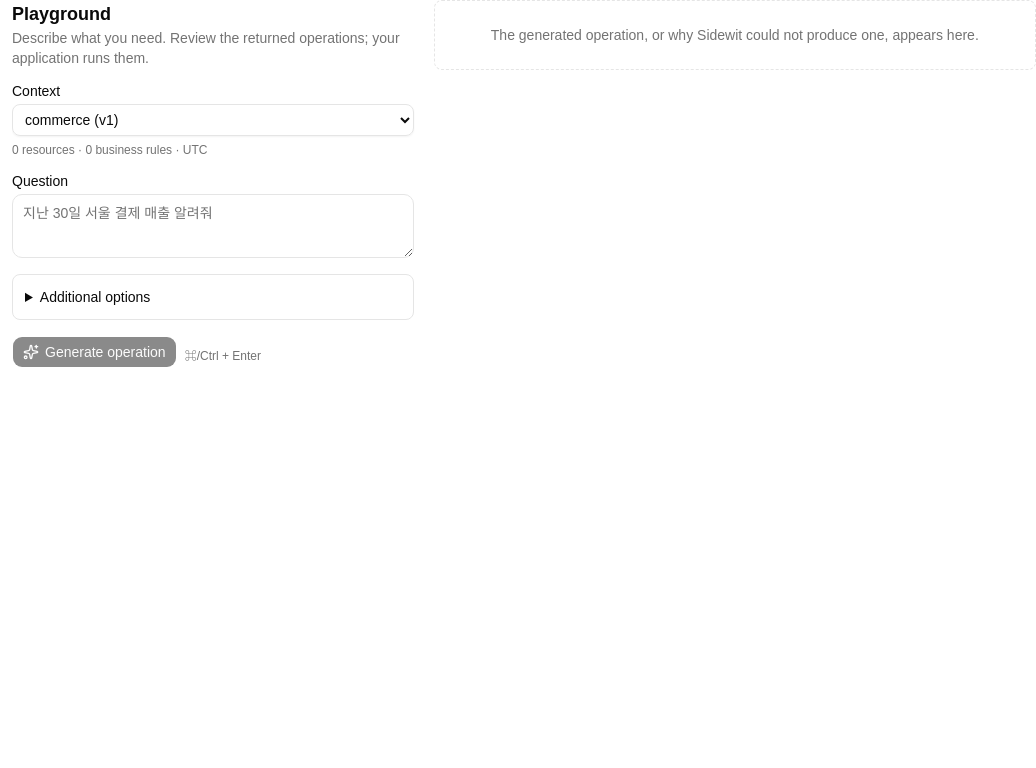
Test: Clarification preserves the original request and accumulates answers across rounds
In the text box labelled "Question": coordinates (213, 226) [12, 194, 414, 258], type "This month reviews"
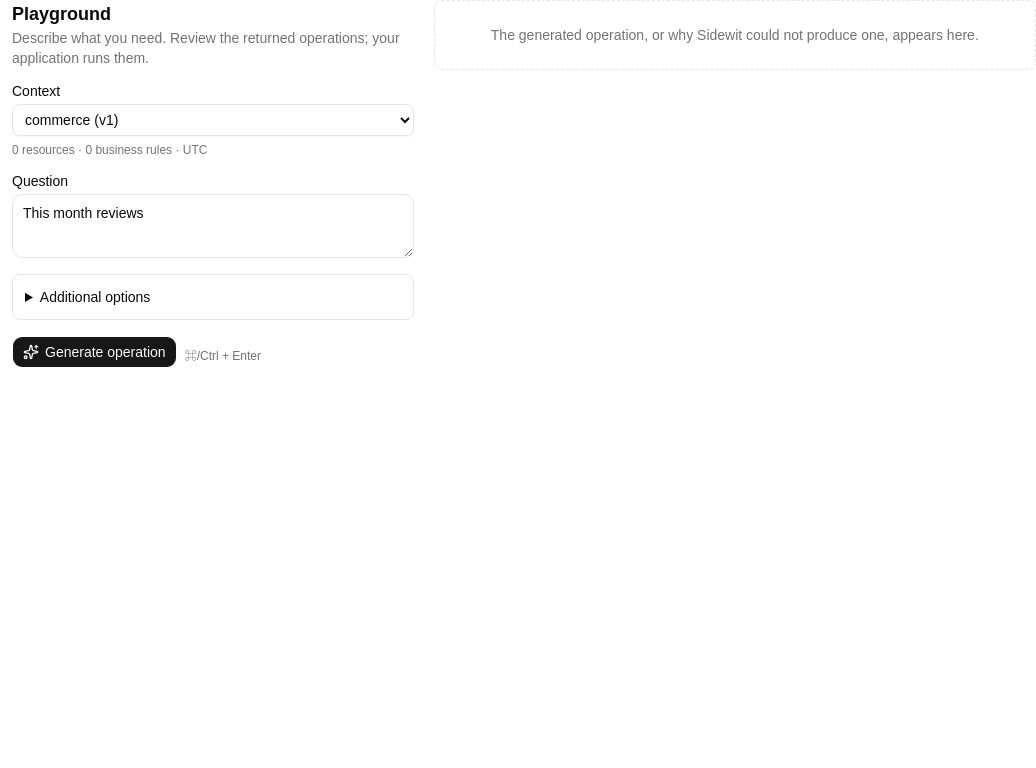
Click the button "Generate operation": coordinates (94, 352) [12, 336, 177, 368]
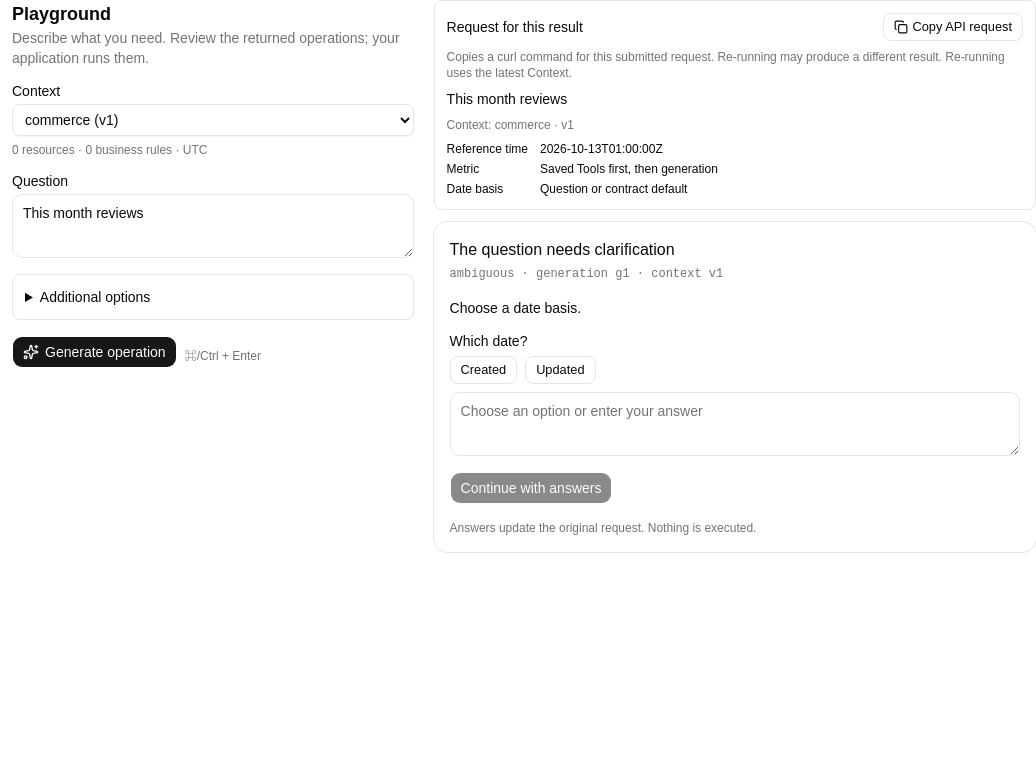
Check: the text "Which date?" is shown, box [450, 333, 527, 349]
Click the button "Created": coordinates (483, 370) [450, 356, 517, 384]
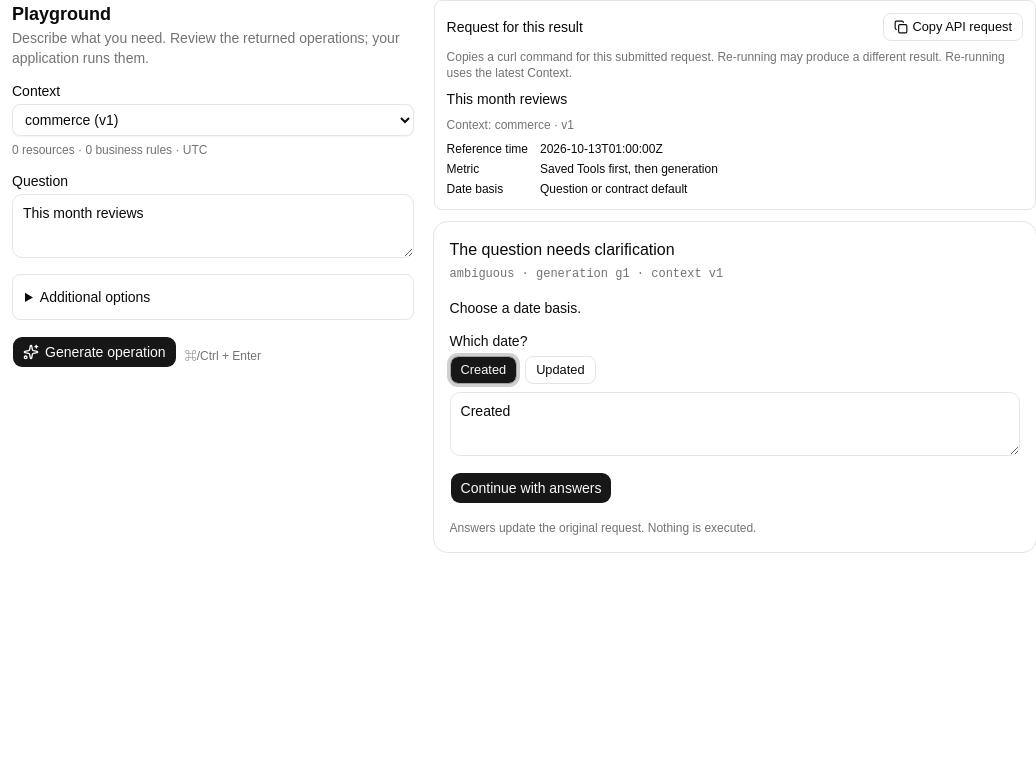
Click the button "Continue with answers": coordinates (531, 488) [450, 472, 612, 504]
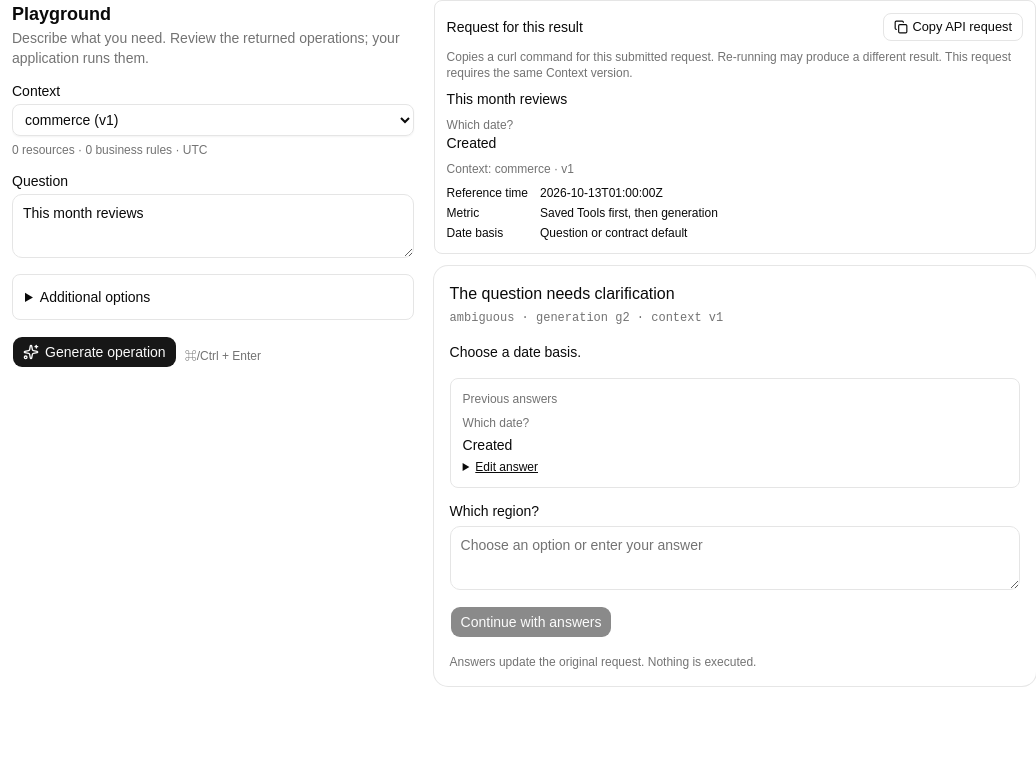
Check: the text "Which region?" is shown, box [450, 503, 539, 519]
In the text box labelled "Which region?": coordinates (735, 558) [450, 526, 1020, 590], type "Seoul"
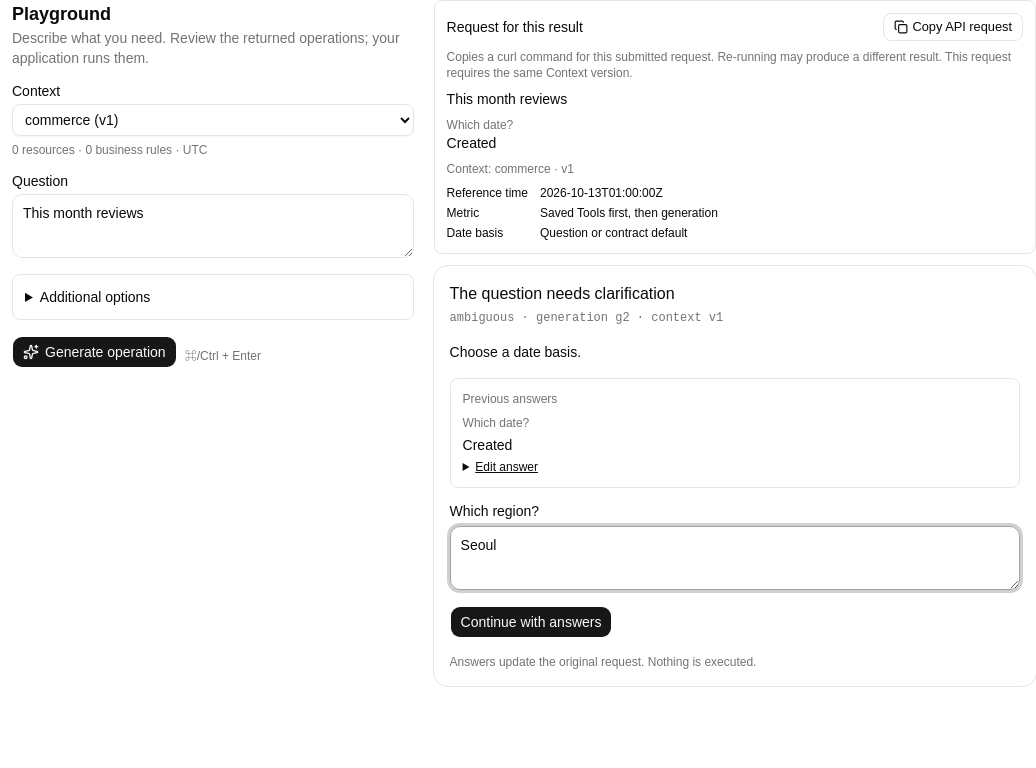
Click the button "Continue with answers": coordinates (531, 622) [450, 606, 612, 638]
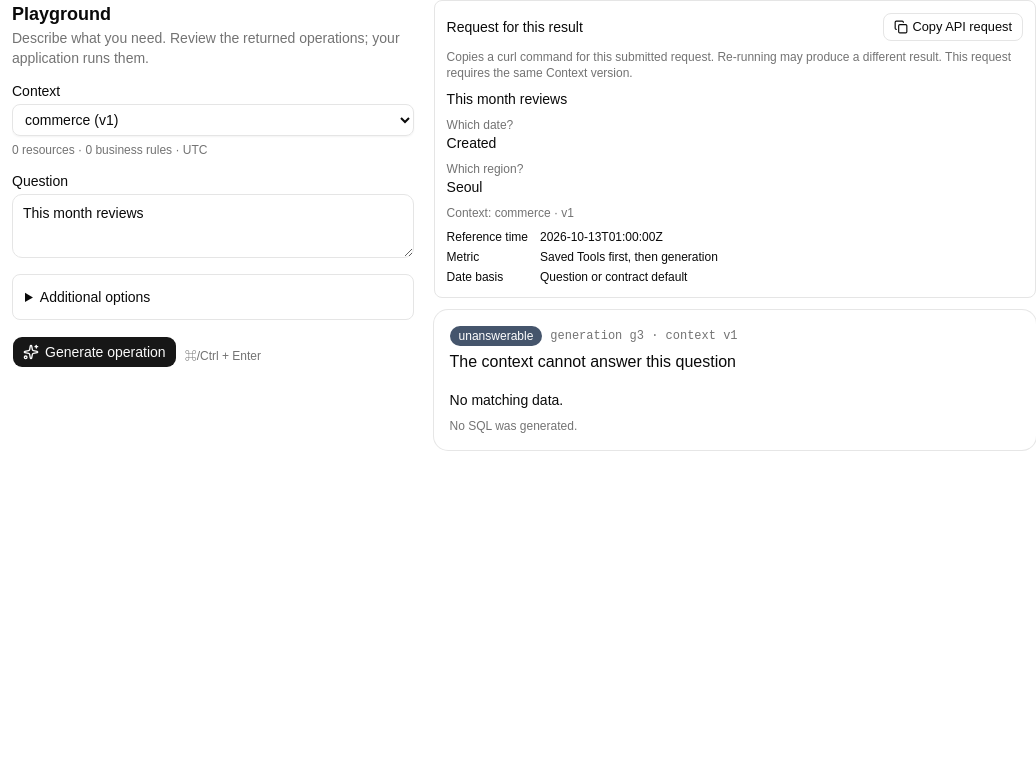
Check: the text "No matching data." is shown, box [450, 392, 563, 408]
Check: the button "Continue with answers" is gone
